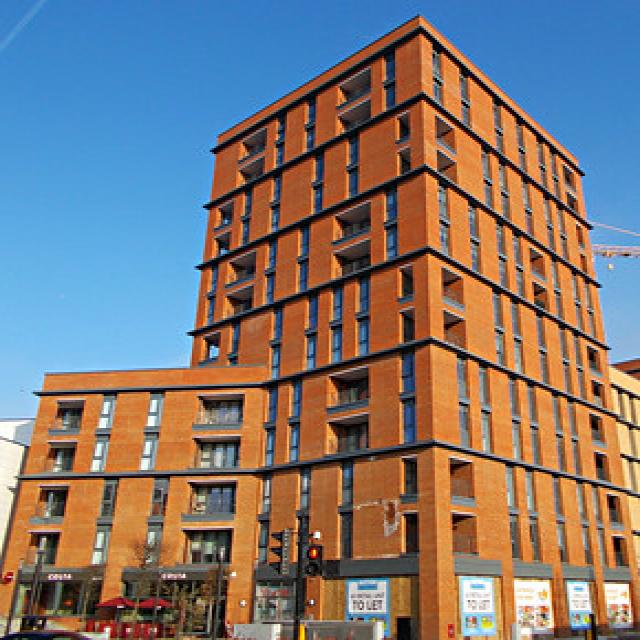Normal_building: (198, 10, 636, 640)
